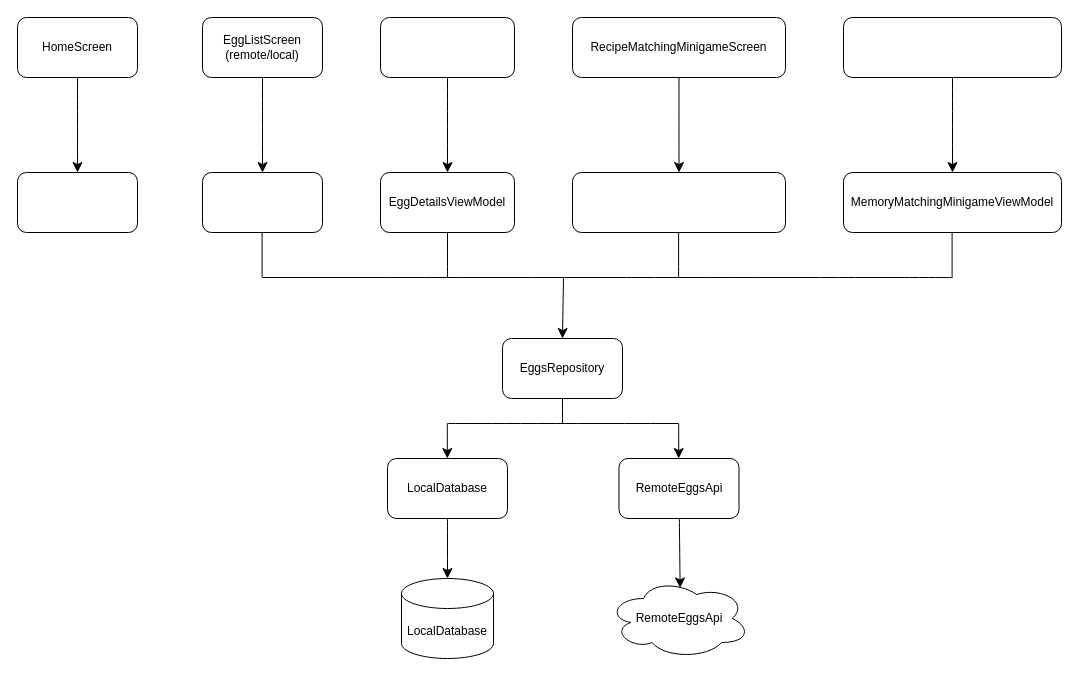
This 1079x676 diagram has some shape labels left out. Here are the shapes that lost their labels. From the top down, the centre of each, then its label:
At (x=447, y=47): "EggDetailsScreen (remote/local)".
At (x=952, y=47): "MemoryMatchingMinigameScreen".
At (x=77, y=202): "HomeViewModel".
At (x=262, y=202): "EggsListViewModel".
At (x=679, y=202): "RecipeMatchingMinigameViewModel".
